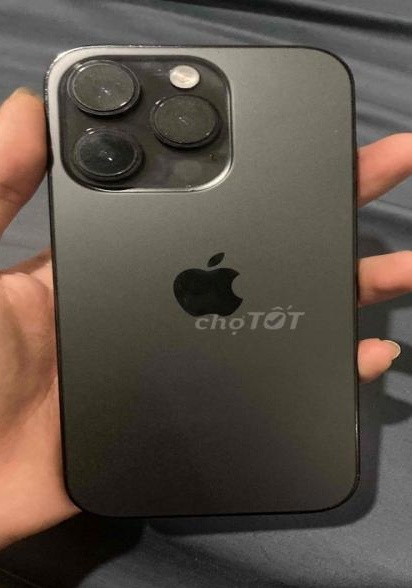scratch: (63, 126, 159, 183), (36, 56, 68, 117), (84, 39, 214, 54)
